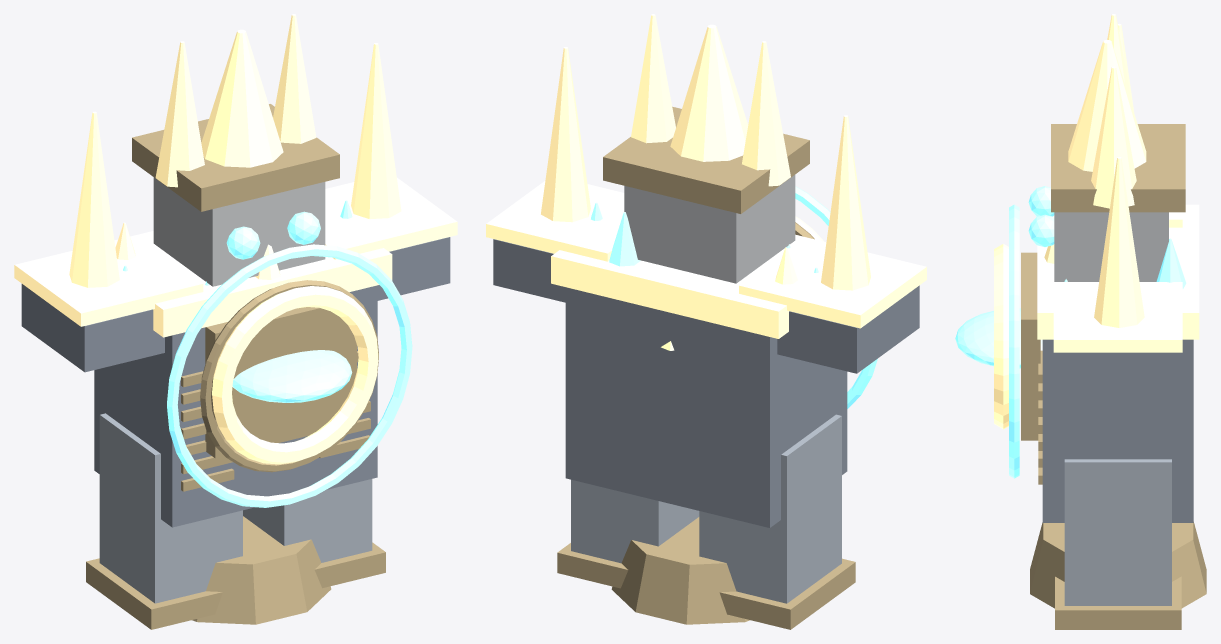
Rendered from RelicMaster_Ornate_Mobile.glb.
The picture shows the model from 3 angles, left to right: view 1: azimuth 30°, elevation 25°; view 2: azimuth 150°, elevation 25°; view 3: azimuth 270°, elevation 25°; orthographic projection. The views are drawn at different scales.
Parts seen in each view (by area): view 1: WGA_Solar_RelicMaster_Ornate_Mobile.glb_goldbright, WGA_Solar_RelicMaster_Ornate_Mobile.glb_gold, WGA_Solar_RelicMaster_Ornate_Mobile.glb_darkstone, WGA_Solar_RelicMaster_Ornate_Mobile.glb_slate, WGA_Solar_RelicMaster_Ornate_Mobile.glb_cyan, WGA_Solar_RelicMaster_Ornate_Mobile.glb_stone; view 2: WGA_Solar_RelicMaster_Ornate_Mobile.glb_darkstone, WGA_Solar_RelicMaster_Ornate_Mobile.glb_goldbright, WGA_Solar_RelicMaster_Ornate_Mobile.glb_gold, WGA_Solar_RelicMaster_Ornate_Mobile.glb_slate, WGA_Solar_RelicMaster_Ornate_Mobile.glb_stone, WGA_Solar_RelicMaster_Ornate_Mobile.glb_cyan; view 3: WGA_Solar_RelicMaster_Ornate_Mobile.glb_goldbright, WGA_Solar_RelicMaster_Ornate_Mobile.glb_darkstone, WGA_Solar_RelicMaster_Ornate_Mobile.glb_gold, WGA_Solar_RelicMaster_Ornate_Mobile.glb_slate, WGA_Solar_RelicMaster_Ornate_Mobile.glb_cyan, WGA_Solar_RelicMaster_Ornate_Mobile.glb_stone.
Boxes of the visible parts, left/top/right/bottom form: WGA_Solar_RelicMaster_Ornate_Mobile.glb_goldbright: left=14, top=14, right=457, bottom=464; WGA_Solar_RelicMaster_Ornate_Mobile.glb_gold: left=86, top=104, right=385, bottom=629; WGA_Solar_RelicMaster_Ornate_Mobile.glb_darkstone: left=21, top=237, right=450, bottom=527; WGA_Solar_RelicMaster_Ornate_Mobile.glb_slate: left=99, top=413, right=372, bottom=603; WGA_Solar_RelicMaster_Ornate_Mobile.glb_cyan: left=123, top=200, right=412, bottom=507; WGA_Solar_RelicMaster_Ornate_Mobile.glb_stone: left=153, top=177, right=325, bottom=286; WGA_Solar_RelicMaster_Ornate_Mobile.glb_darkstone: left=493, top=239, right=919, bottom=527; WGA_Solar_RelicMaster_Ornate_Mobile.glb_goldbright: left=486, top=14, right=926, bottom=350; WGA_Solar_RelicMaster_Ornate_Mobile.glb_gold: left=557, top=106, right=855, bottom=629; WGA_Solar_RelicMaster_Ornate_Mobile.glb_slate: left=571, top=414, right=841, bottom=603; WGA_Solar_RelicMaster_Ornate_Mobile.glb_stone: left=624, top=175, right=795, bottom=283; WGA_Solar_RelicMaster_Ornate_Mobile.glb_cyan: left=591, top=186, right=877, bottom=408; WGA_Solar_RelicMaster_Ornate_Mobile.glb_goldbright: left=994, top=14, right=1199, bottom=429; WGA_Solar_RelicMaster_Ornate_Mobile.glb_darkstone: left=1042, top=339, right=1193, bottom=522; WGA_Solar_RelicMaster_Ornate_Mobile.glb_gold: left=1021, top=124, right=1206, bottom=629; WGA_Solar_RelicMaster_Ornate_Mobile.glb_slate: left=1064, top=459, right=1171, bottom=605; WGA_Solar_RelicMaster_Ornate_Mobile.glb_cyan: left=955, top=186, right=1186, bottom=478; WGA_Solar_RelicMaster_Ornate_Mobile.glb_stone: left=1054, top=212, right=1168, bottom=281.
Size of the model in its own units: 3.85 by 5.46 by 2.3.
